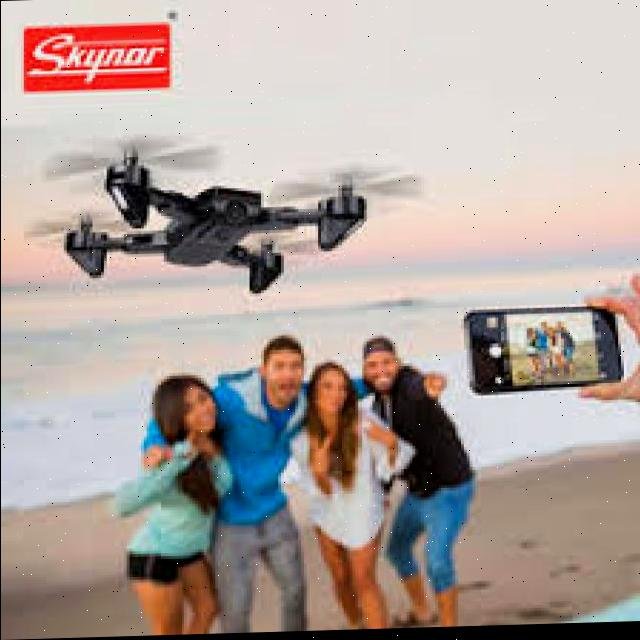drone: (25, 120, 415, 334)
